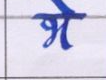e_matra: (51, 0, 79, 13)
